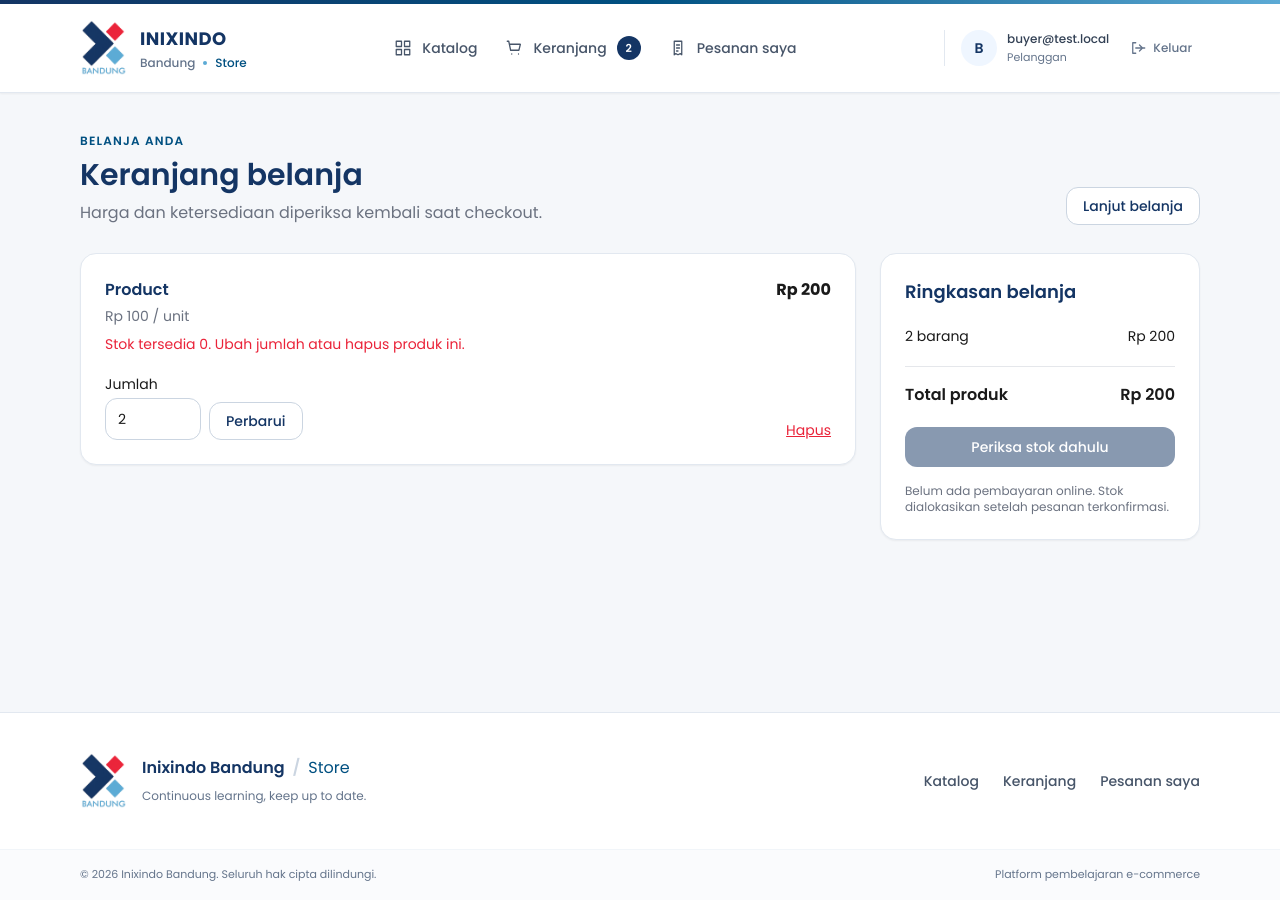
persistent cart UI › lets a user remove an unavailable product and returns to the empty state
Expected: the text "Stok tersedia 0. Ubah jumlah atau hapus produk ini." is shown, [105,334,465,354]
Expected: the button "Periksa stok dahulu" is disabled, [905,427,1175,467]
Click the button with aria-label "Hapus Product": (809, 430) [786,420,831,440]
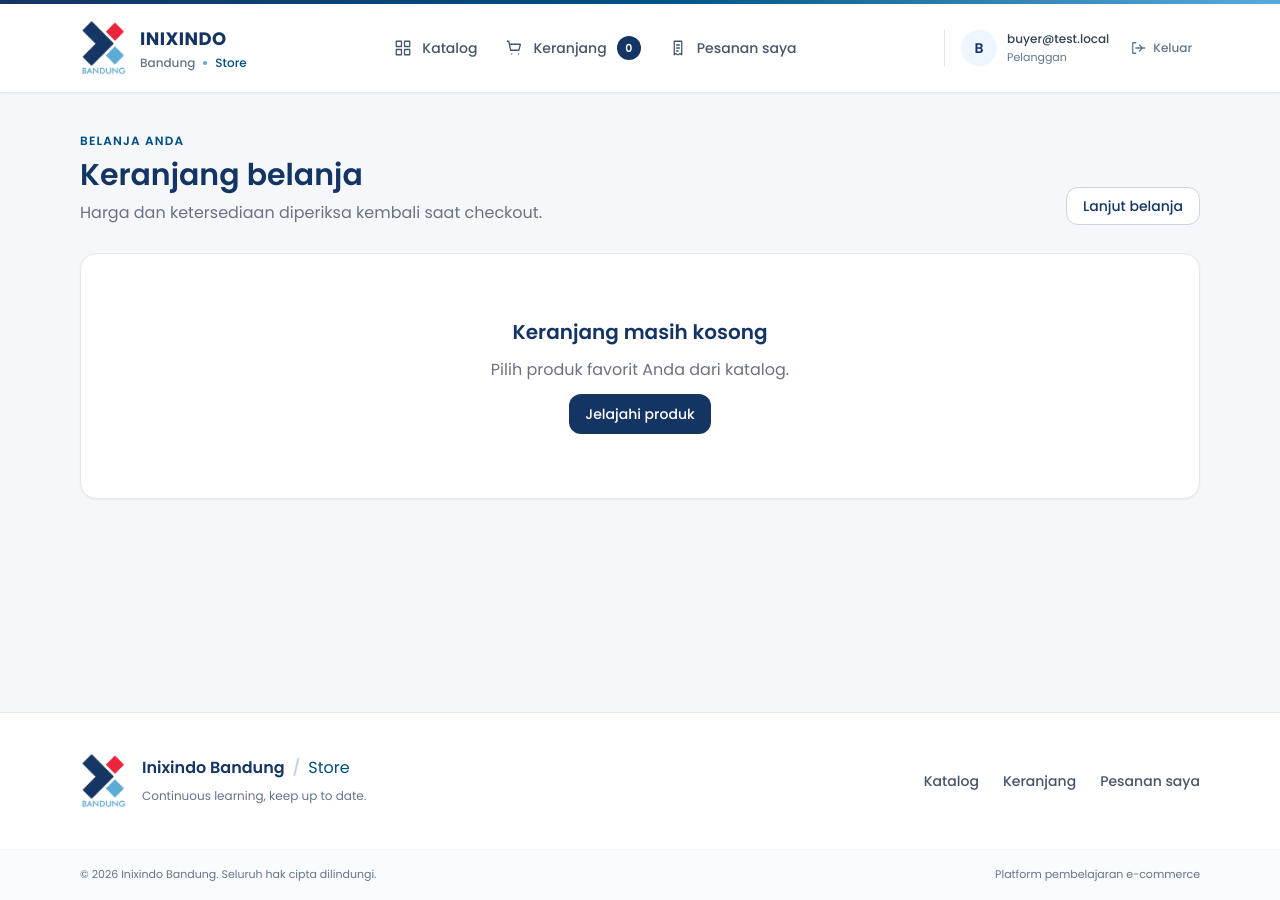
Now the heading "Keranjang masih kosong" is shown, box [512,318,768,346]
